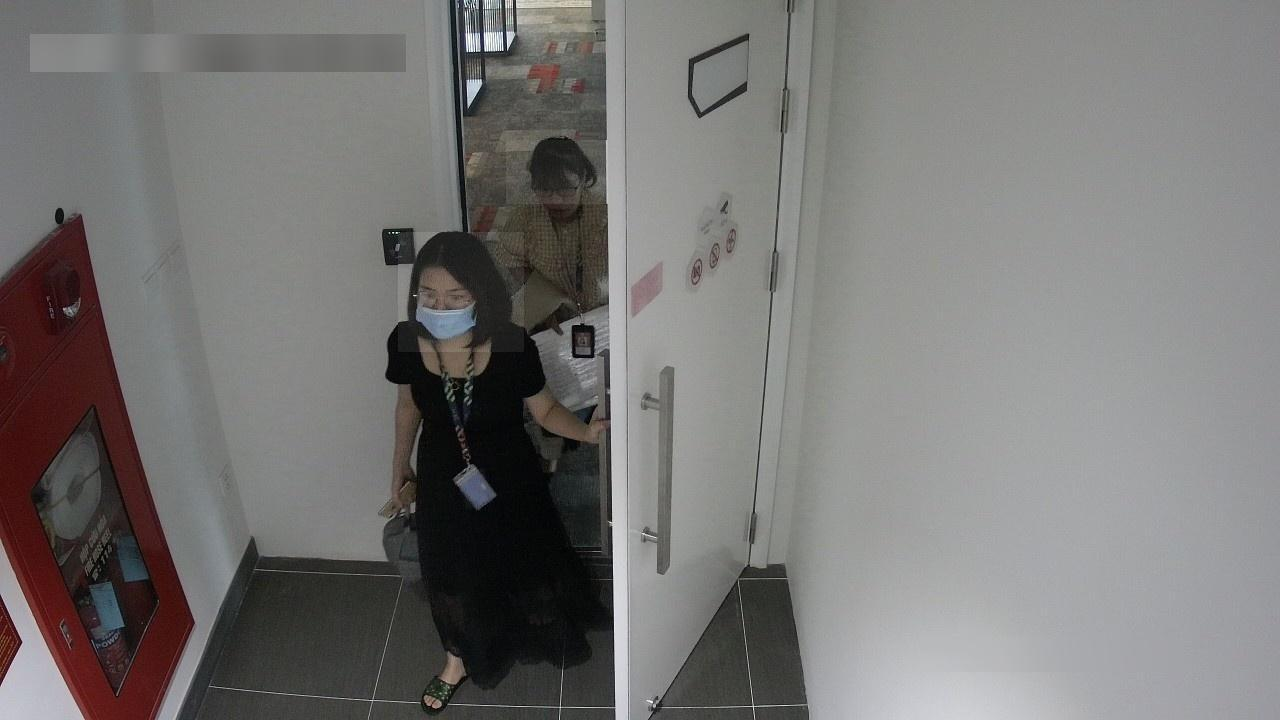mask: (413, 266, 484, 344)
no_gloves: (399, 233, 525, 353), (507, 141, 609, 205)
no_hairnet: (527, 166, 585, 219)
